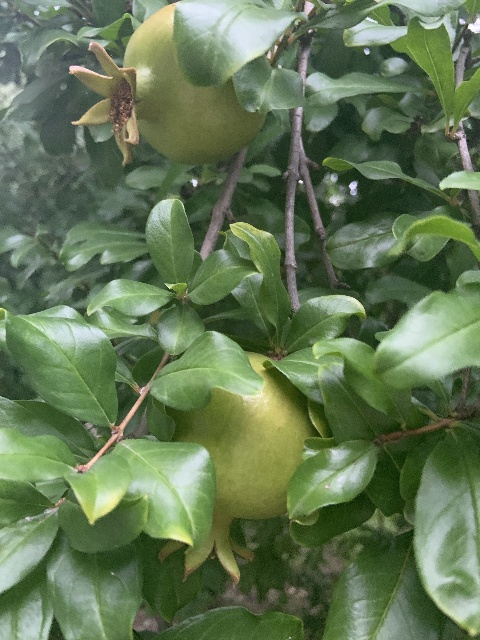mid-growth: (150, 352, 319, 588), (68, 2, 266, 168)
